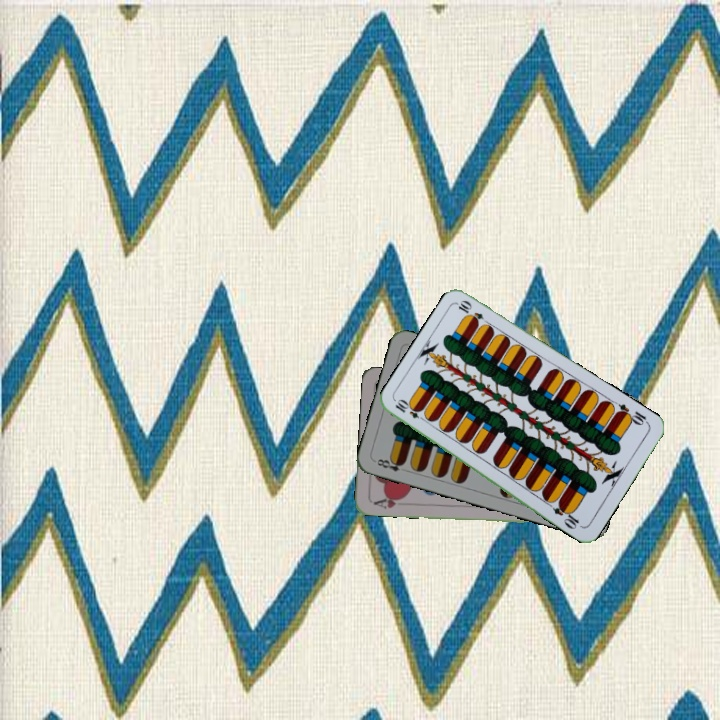E10: (612, 399, 651, 428), (391, 396, 429, 424)
E8: (371, 455, 410, 475)
HA: (369, 492, 408, 511)
